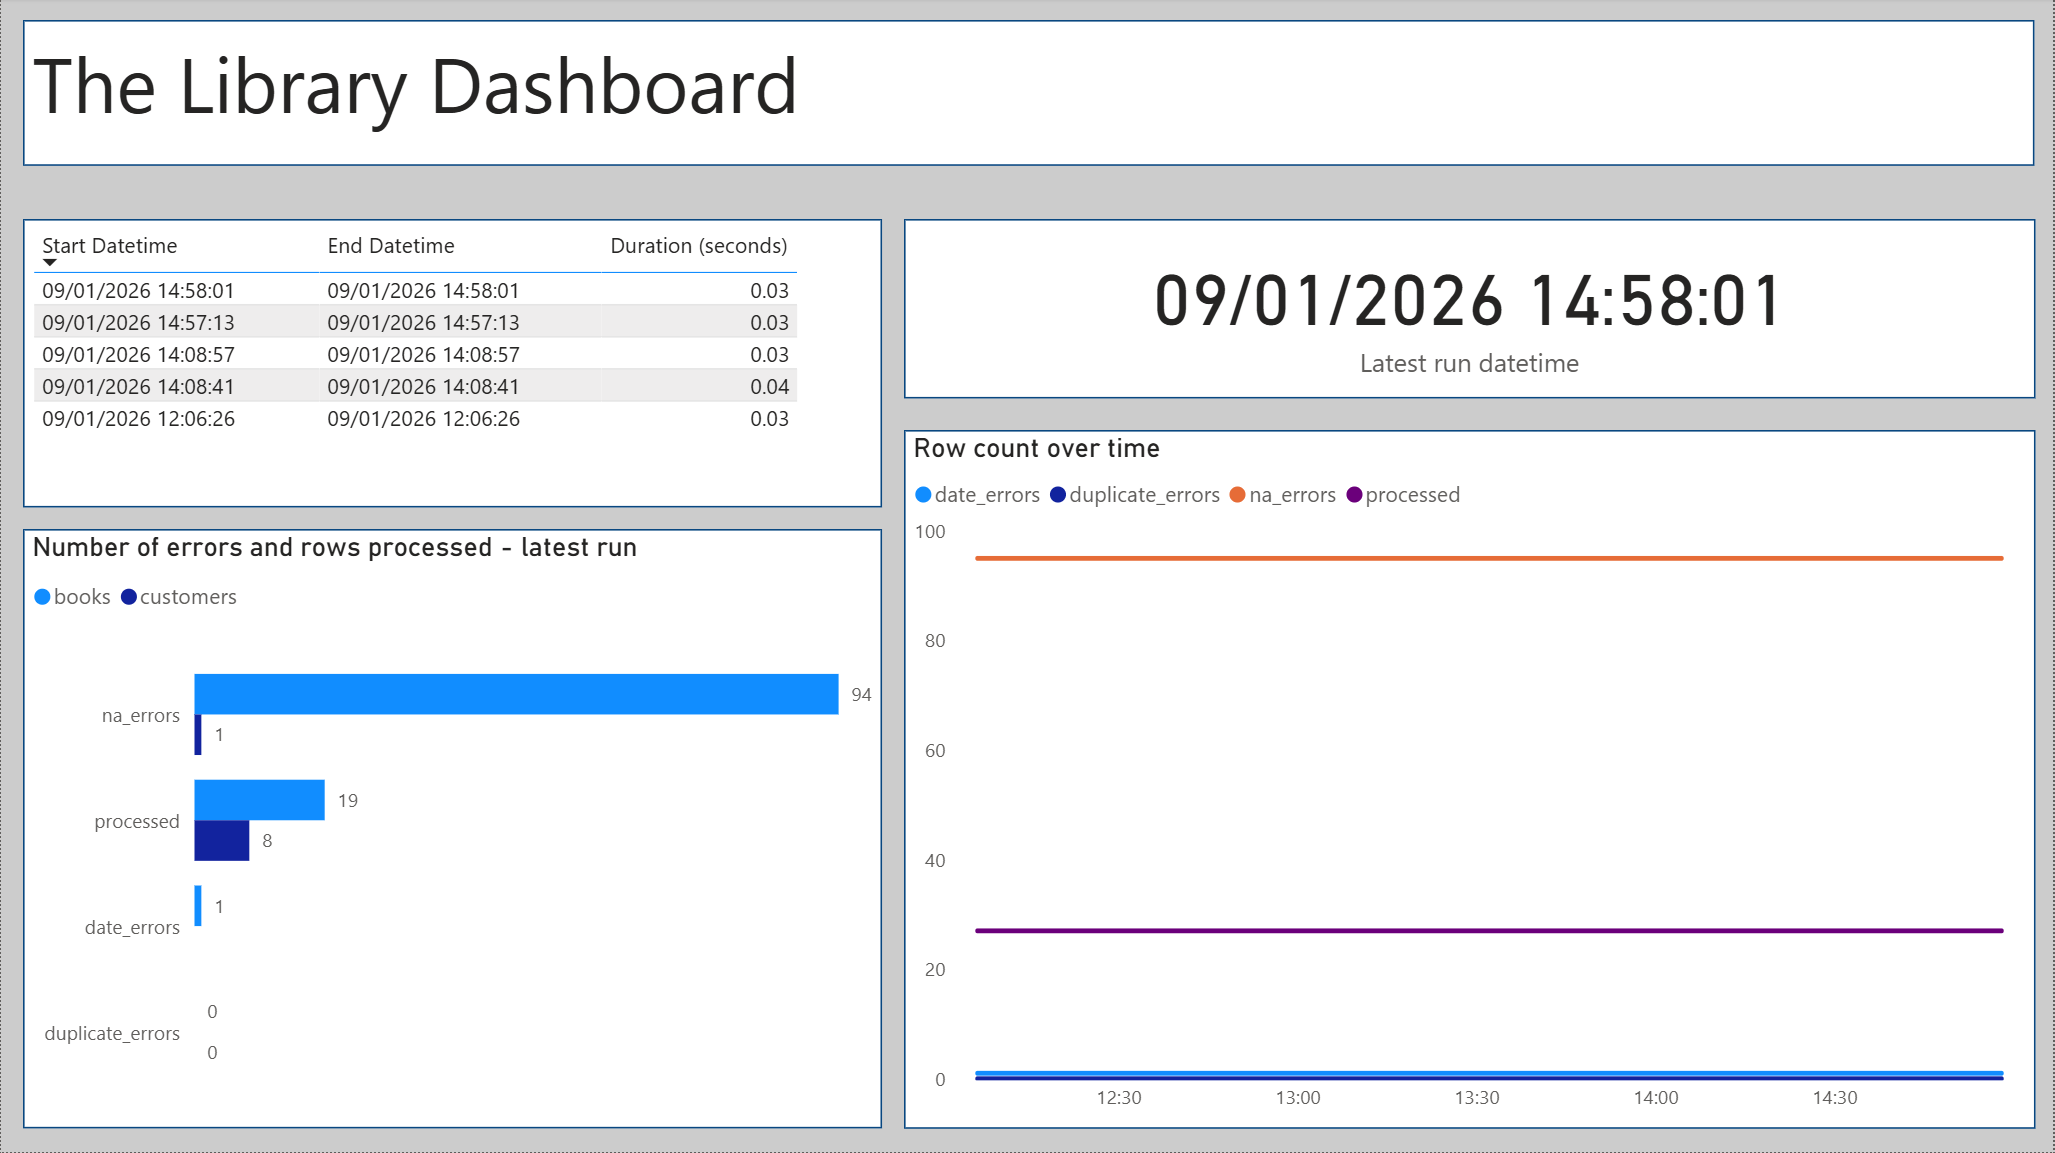

The page's visual inventory and layout, read from the dashboard file:
{"tool":"powerbi","page":{"name":"Page 1","canvas":[1280,720],"ordinal":0},"visuals":[{"type":"textbox","box":[13.6,13.6,1255.3,90.9],"z":0},{"type":"card","fields":{"Values":["Max(run_dttm.start_dttm)"]},"box":[563.3,137.8,705.6,112.1],"z":1000},{"type":"clusteredBarChart","title":"Number of errors and rows processed - latest run","fields":{"Category":["process.process_type"],"Y":["Sum(process.row_count)"],"Series":["process.file_name"]},"box":[13.6,331.6,536,374],"z":2000},{"type":"tableEx","fields":{"Values":["run_dttm.start_dttm","run_dttm.end_dttm","Sum(run_dttm.duration_seconds)"]},"box":[13.6,137.8,536,180.2],"z":3000},{"type":"lineChart","title":"Row count over time","fields":{"Category":["process.run_dttm"],"Series":["process.process_type"],"Y":["Sum(process.row_count)"]},"box":[563.3,269.5,705.6,436.1],"z":4000}]}

Visuals, with their boxes in screenshot pixels (x1, y1, x2, y2), scaled from the page's 1280x720 canvas onto the 2055x1153 screenshot:
textbox: (left=22, top=22, right=2037, bottom=167)
card - Max(run_dttm.start_dttm): (left=904, top=221, right=2037, bottom=400)
"Number of errors and rows processed - latest run" clusteredBarChart: (left=22, top=531, right=882, bottom=1130)
tableEx - run_dttm.start_dttm x run_dttm.end_dttm: (left=22, top=221, right=882, bottom=509)
"Row count over time" lineChart: (left=904, top=432, right=2037, bottom=1130)
